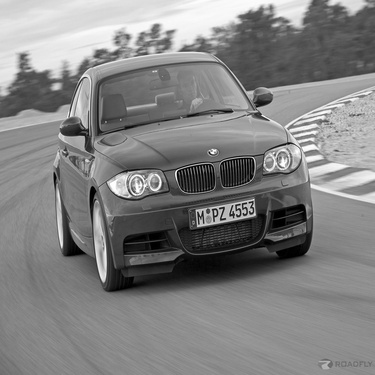car: (43, 44, 315, 295)
